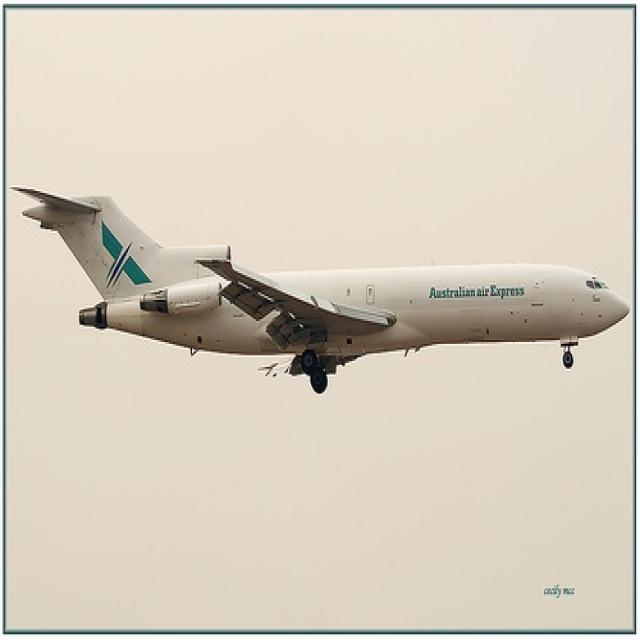aeroplane: (10, 184, 630, 392)
